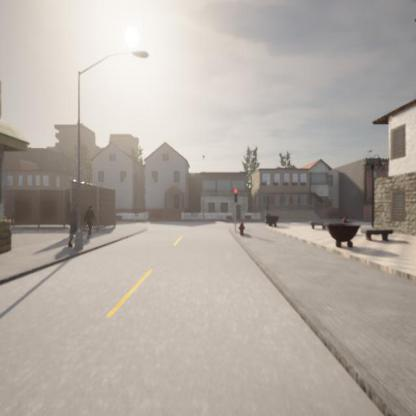person: (67, 202, 83, 250), (83, 204, 94, 238)
traffic_light_red: (234, 188, 238, 203)
